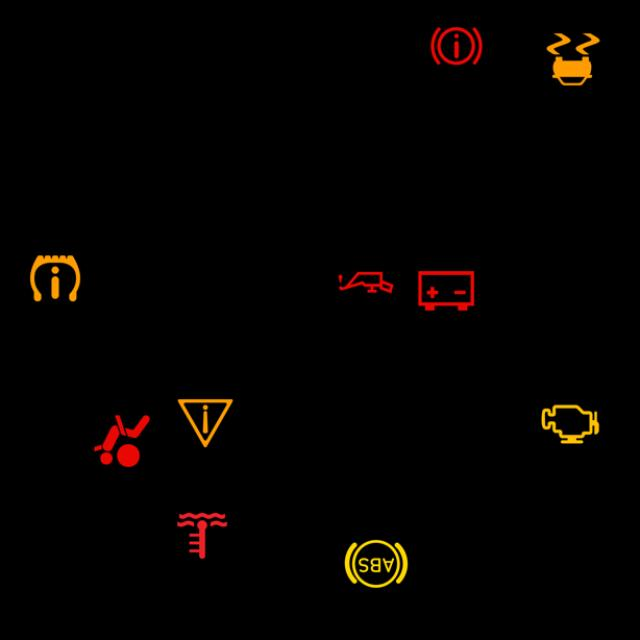Anti Lock Braking System: (342, 530, 411, 598)
Braking System Issue: (422, 11, 491, 80)
Charging System Issue: (412, 256, 481, 326)
Check Engine: (536, 389, 604, 458)
Electronic Stability Problem -ESP-: (539, 25, 608, 94)
Engine Overheating Warning Light: (168, 502, 236, 570)
Low Engine Oil Warning Light: (332, 248, 401, 317)
Low Tire Pressure Warning Light: (20, 244, 90, 313)
Master warning light: (171, 388, 240, 458)
SRS-Airbag: (88, 406, 156, 476)
